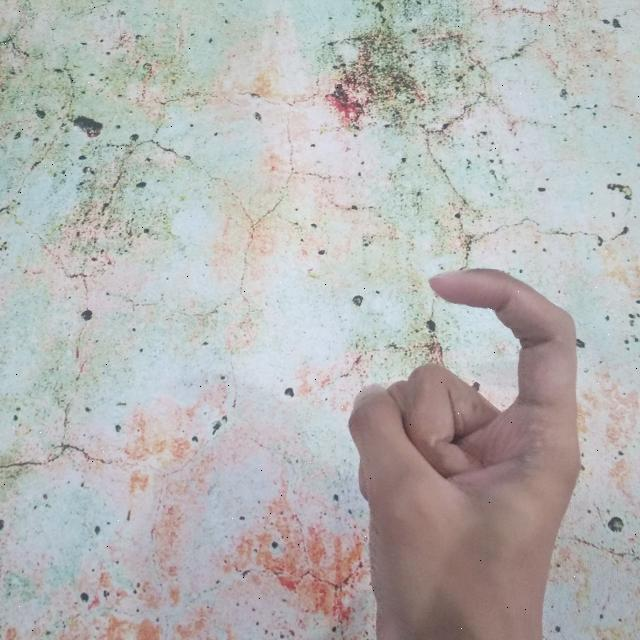X: (340, 260, 582, 640)
